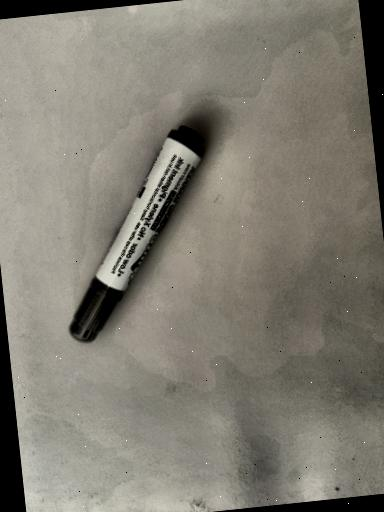marcador negro: (69, 125, 204, 342)
